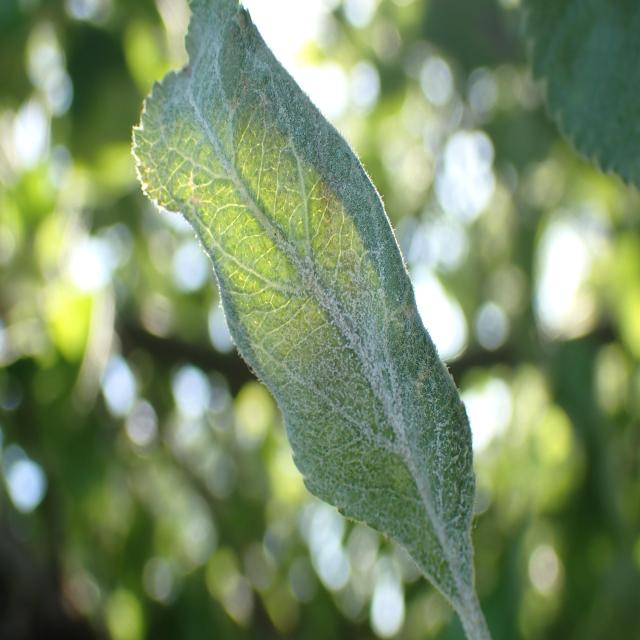Powdery_mildew: (131, 0, 497, 630)
